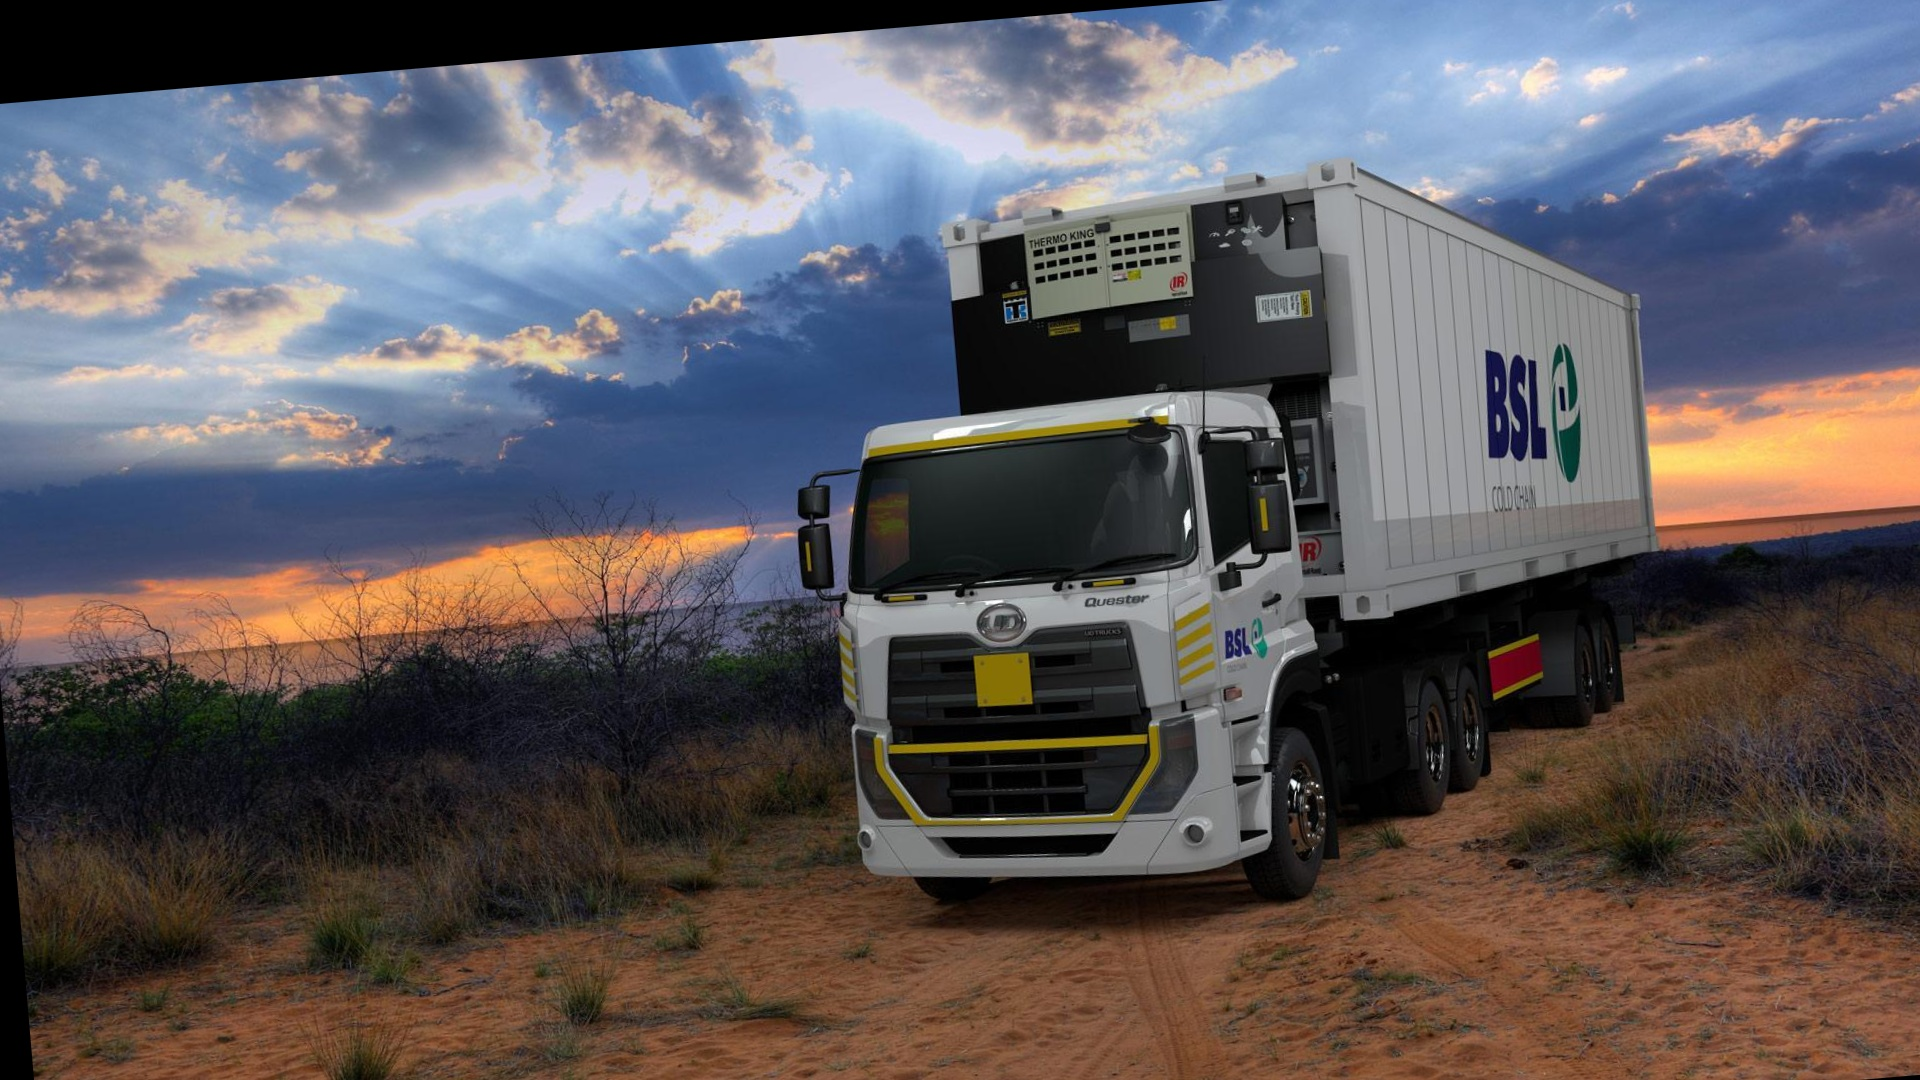truck: (801, 140, 1684, 944)
